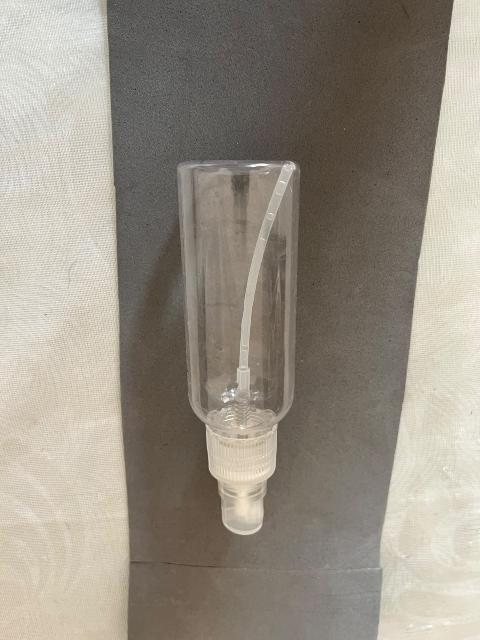PET: (127, 144, 395, 552)
